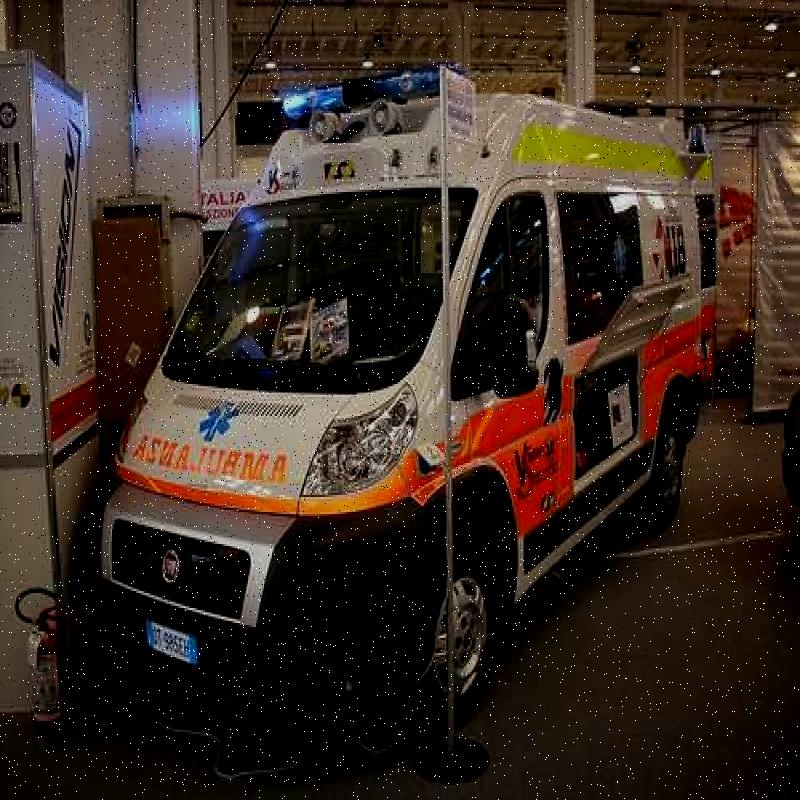AmbulanceSiren: (280, 57, 457, 134)
